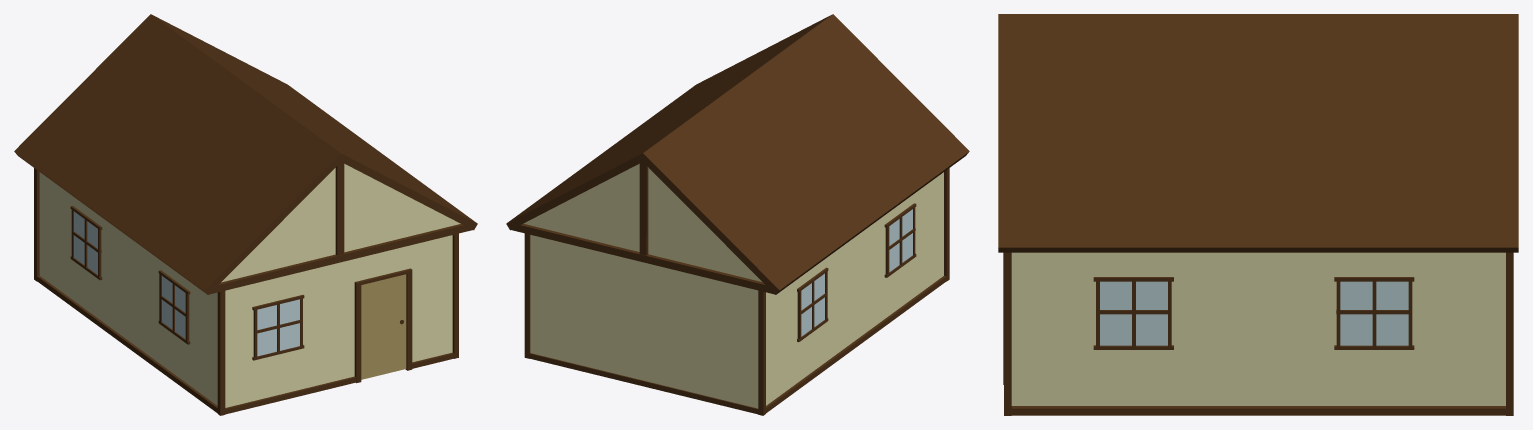
The model's file is Casa Vilarejo Final.fbx.
3 views of the same model, side by side, from view 1: azimuth 30°, elevation 25°; view 2: azimuth 150°, elevation 25°; view 3: azimuth 270°, elevation 25° (orthographic). The views are drawn at different scales.
Visible parts, largest first — view 1: Casa; view 2: Casa; view 3: Casa.
Part boxes in pixels (box(x1,y1,x2,y2)): Casa: box(14, 14, 477, 415); Casa: box(506, 14, 969, 415); Casa: box(998, 14, 1518, 415).
Size of the model in its own units: 8265 by 6798 by 9953.
